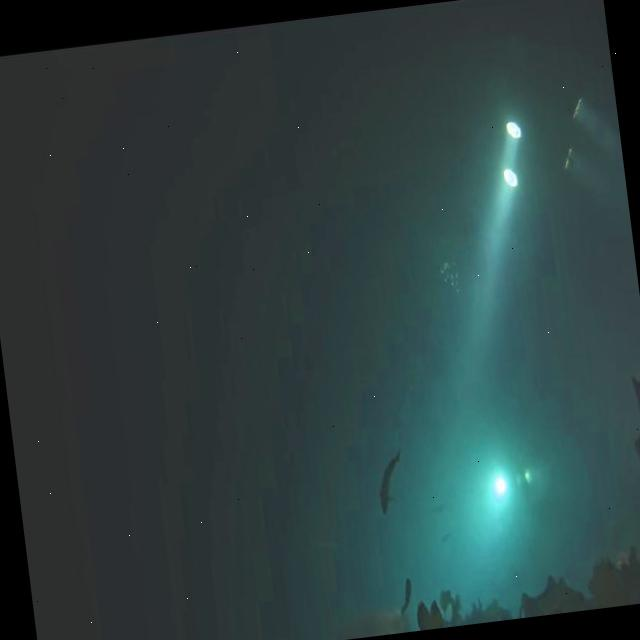fish: (372, 446, 408, 517), (392, 577, 416, 618)
